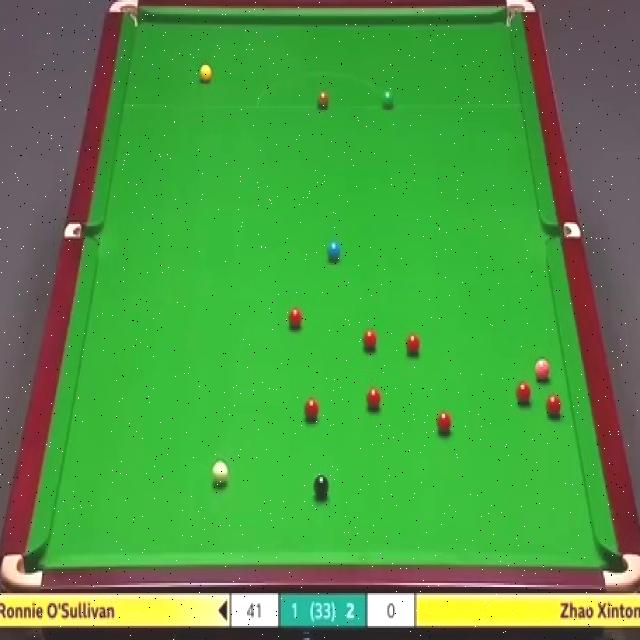black-ball: (313, 472, 330, 497)
blue-ball: (327, 238, 341, 264)
brown-ball: (316, 90, 331, 109)
green-ball: (380, 88, 396, 111)
pink-ball: (534, 360, 552, 380)
red-ball: (436, 411, 452, 438), (360, 329, 378, 353), (304, 396, 320, 423), (365, 387, 381, 412), (514, 381, 532, 402), (406, 332, 421, 357), (544, 395, 561, 417), (288, 306, 302, 328)
white-ball: (213, 461, 228, 489)
yellow-ball: (200, 66, 212, 84)
